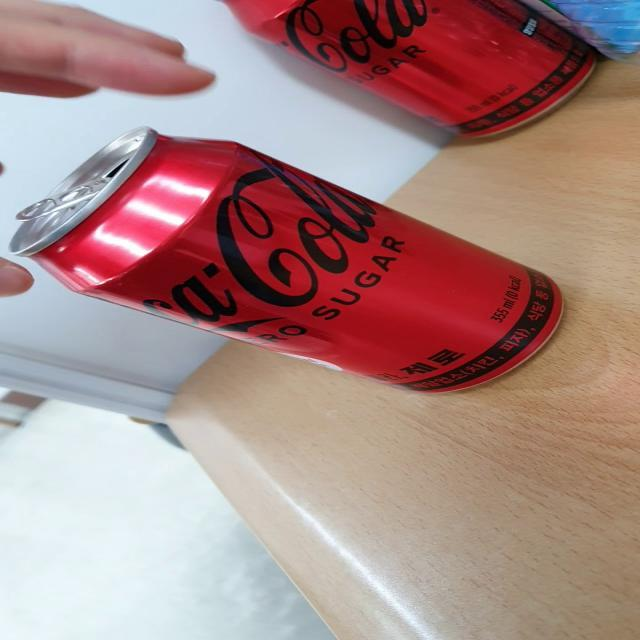coca-cola: (11, 126, 589, 396), (216, 2, 614, 142)
